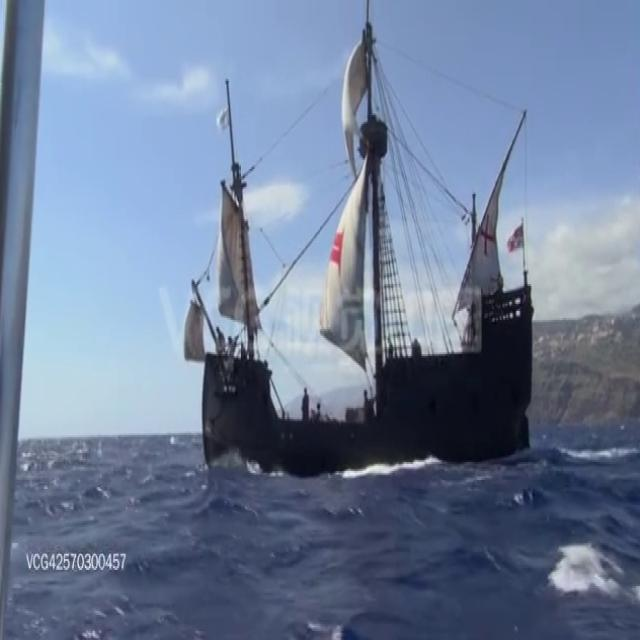sailboat: (180, 7, 538, 478)
